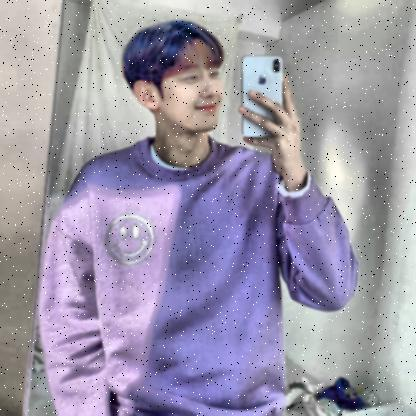sweater: (33, 133, 361, 416)
